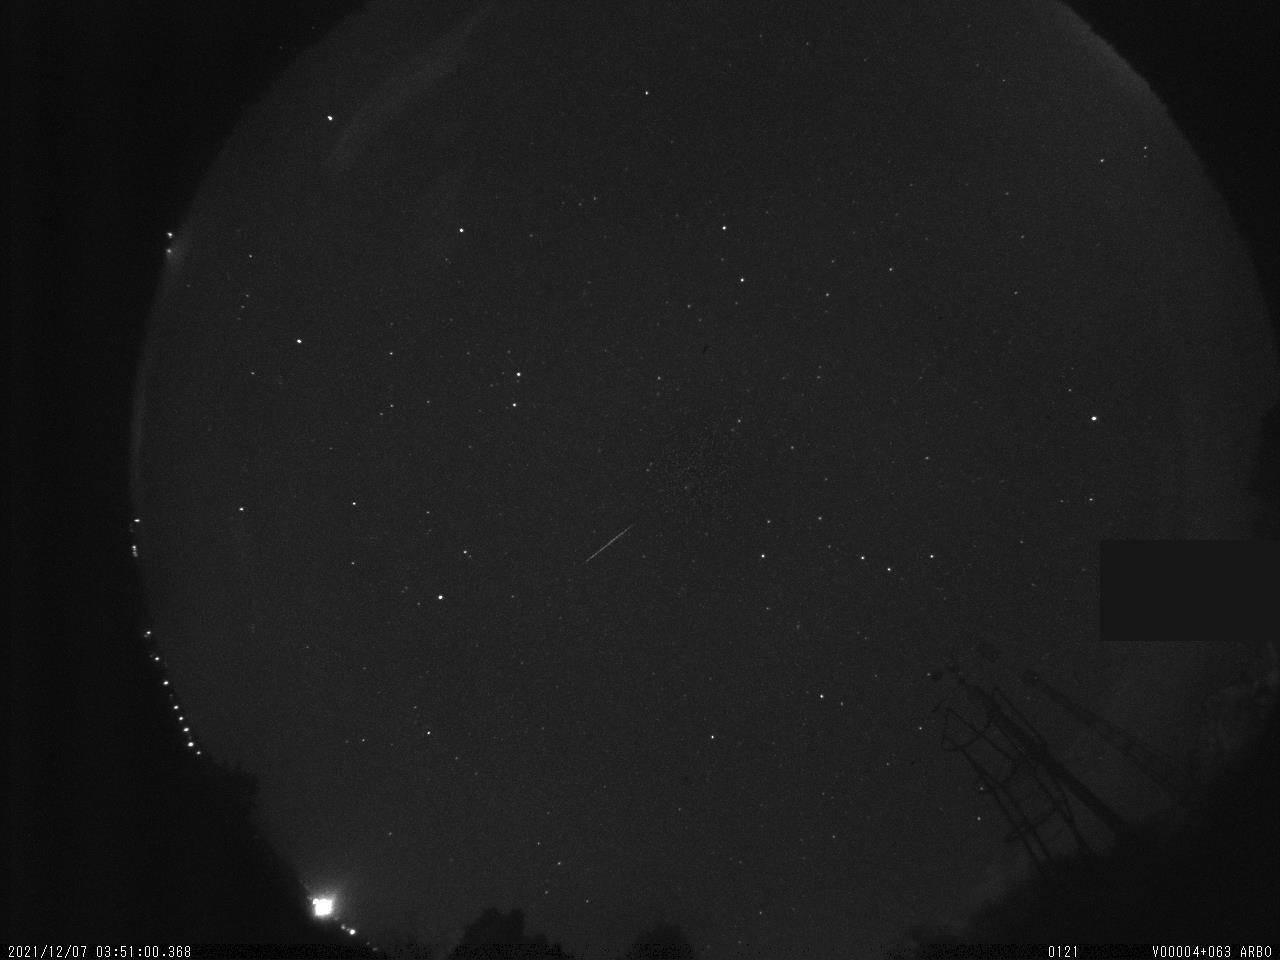meteor: (566, 513, 648, 577)
